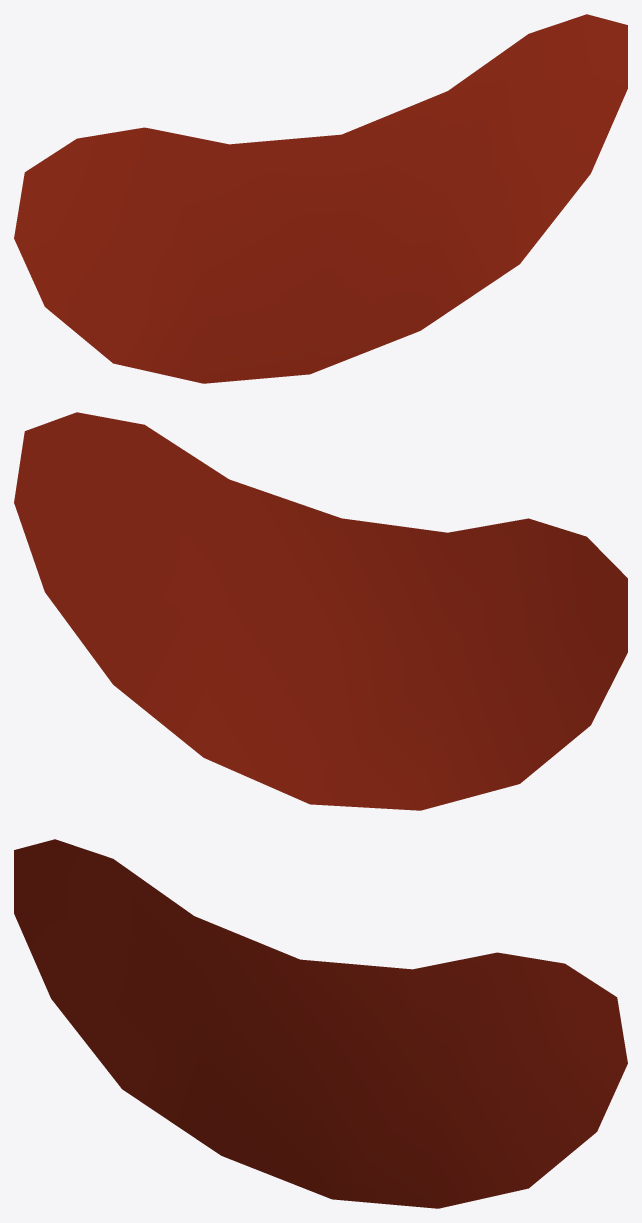
Rendered from Mouth_Red_6.fbx.
The picture shows the model from 3 angles, top to bottom: view 1: azimuth 30°, elevation 25°; view 2: azimuth 150°, elevation 25°; view 3: azimuth 330°, elevation 25°; orthographic projection.
Visible parts, largest first — view 1: Mouth_Red_6; view 2: Mouth_Red_6; view 3: Mouth_Red_6.
Part boxes in pixels (left/top/right/bottom): Mouth_Red_6: left=14, top=14, right=627, bottom=383; Mouth_Red_6: left=14, top=412, right=627, bottom=810; Mouth_Red_6: left=14, top=839, right=627, bottom=1208.
Bounding box in the file's own units: 7.46 × 3.64 × 0.6651.
